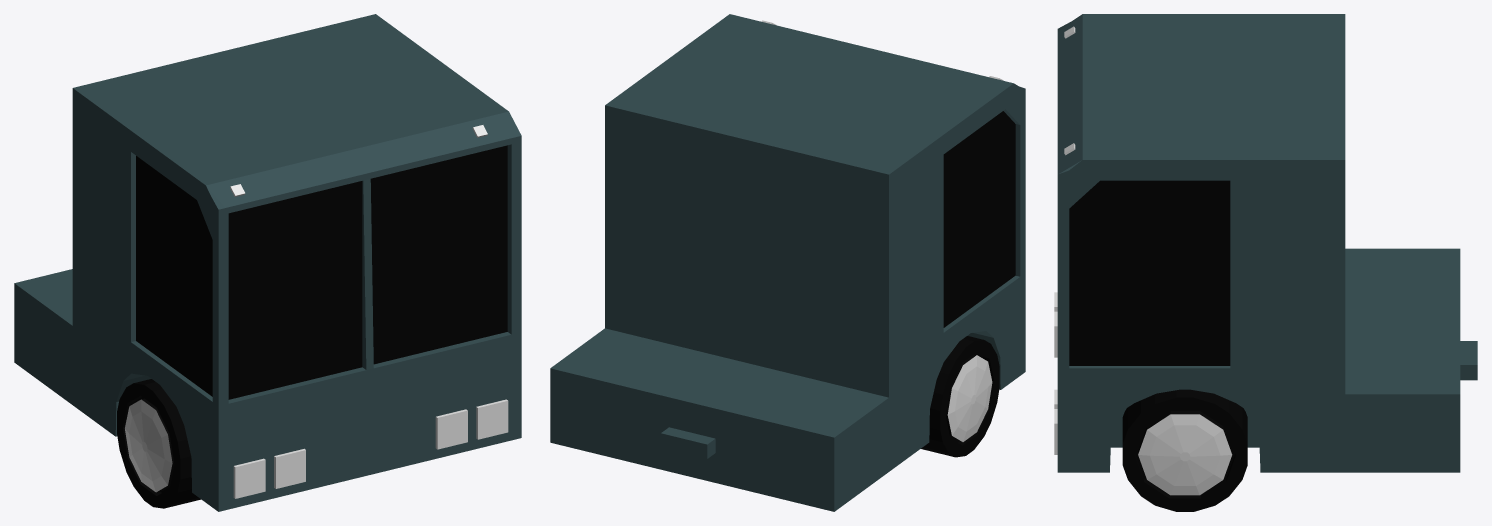
Rendered from Truck_01.fbx.
3 renders of one model, left to right at view 1: azimuth 30°, elevation 25°; view 2: azimuth 150°, elevation 25°; view 3: azimuth 270°, elevation 25°, orthographic. The views are drawn at different scales.
Parts seen in each view (by area): view 1: Truck_01; view 2: Truck_01; view 3: Truck_01.
Part boxes in pixels (bbox=[...]): Truck_01: bbox=[14, 14, 521, 511]; Truck_01: bbox=[550, 14, 1025, 511]; Truck_01: bbox=[1054, 14, 1477, 511].
Bounding box in the file's own units: 633 × 672 × 736.
